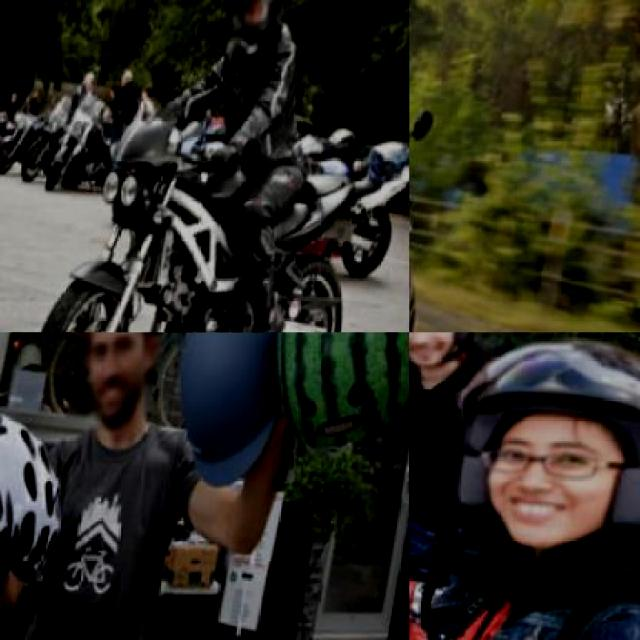With Helmet: (437, 332, 638, 582), (409, 332, 506, 392), (220, 0, 294, 65)
Without Helmet: (64, 332, 178, 445)
